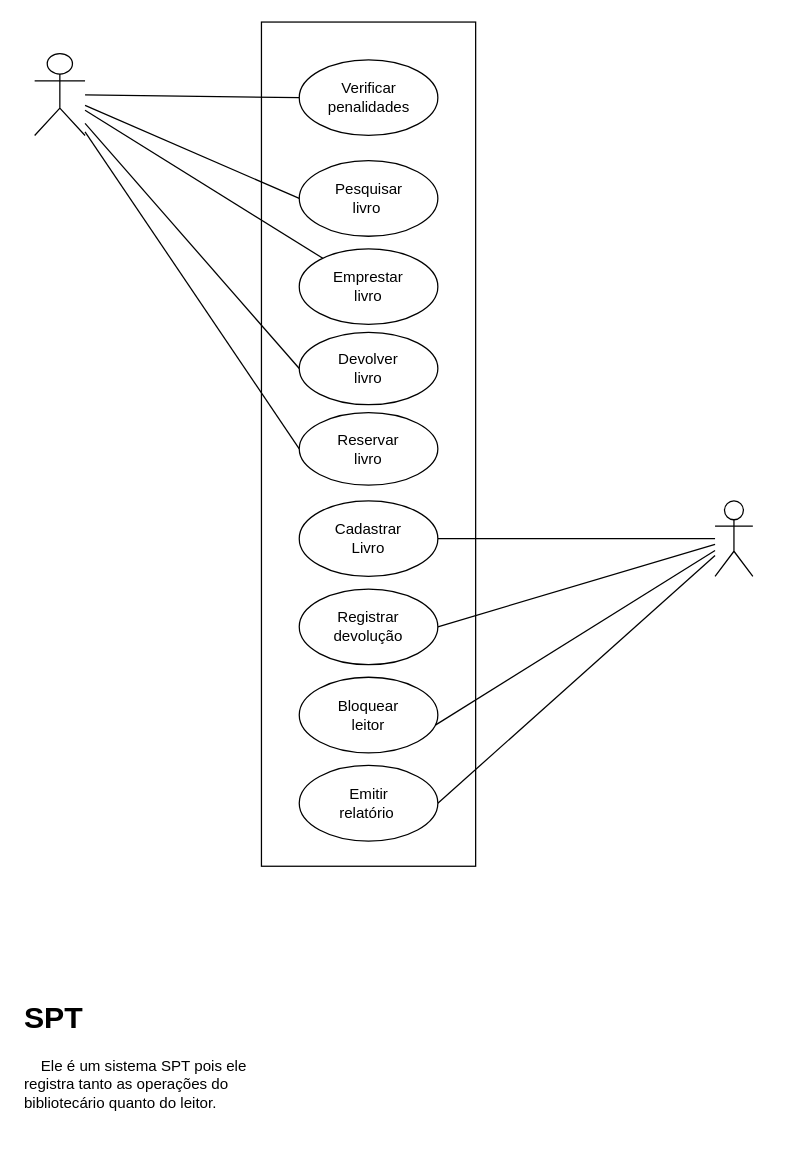
Some shapes in this 796 by 1169 pixel diagram are drawn without their labels. Each missing label, with the box of its shape:
Bibliotecario: (714, 500, 753, 576)
Leitor: (33, 52, 85, 135)
